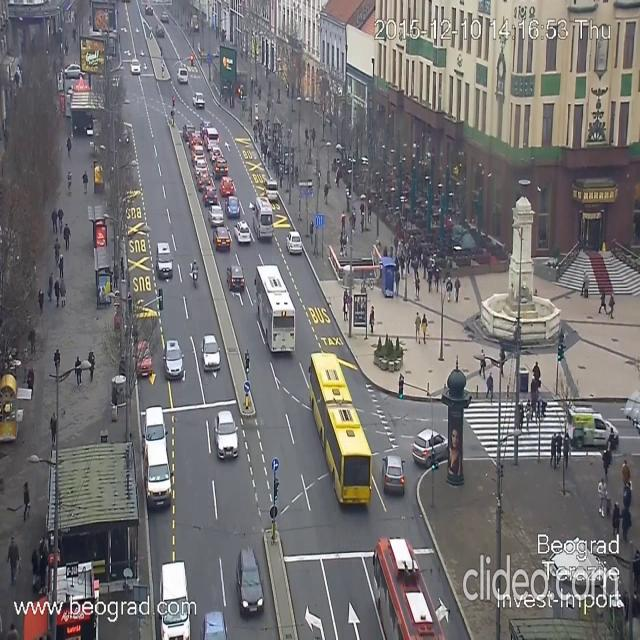bus: (308, 350, 372, 505), (372, 535, 445, 639), (255, 193, 272, 244)
car: (158, 558, 190, 640), (566, 410, 616, 450), (236, 547, 264, 615), (144, 440, 172, 508), (411, 427, 448, 468), (214, 409, 238, 459), (381, 454, 405, 494), (144, 406, 166, 444), (201, 334, 221, 372), (154, 238, 172, 278), (227, 261, 243, 298), (202, 615, 226, 639), (135, 343, 151, 377), (232, 214, 250, 244), (165, 342, 179, 380), (265, 179, 279, 207), (212, 228, 228, 252), (288, 231, 300, 259), (209, 206, 225, 225), (188, 134, 202, 154), (180, 115, 194, 134), (179, 66, 191, 88), (214, 161, 232, 175), (205, 128, 219, 146), (205, 189, 217, 208), (222, 178, 234, 195), (130, 58, 142, 74), (193, 150, 205, 166), (195, 93, 205, 111), (145, 1, 155, 19), (199, 174, 211, 188), (197, 164, 209, 178), (228, 198, 238, 212), (211, 146, 219, 162), (162, 13, 170, 28), (158, 26, 164, 40)
truck: (254, 263, 296, 354)
